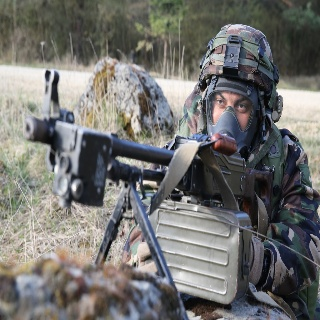rifle: (20, 68, 277, 313)
